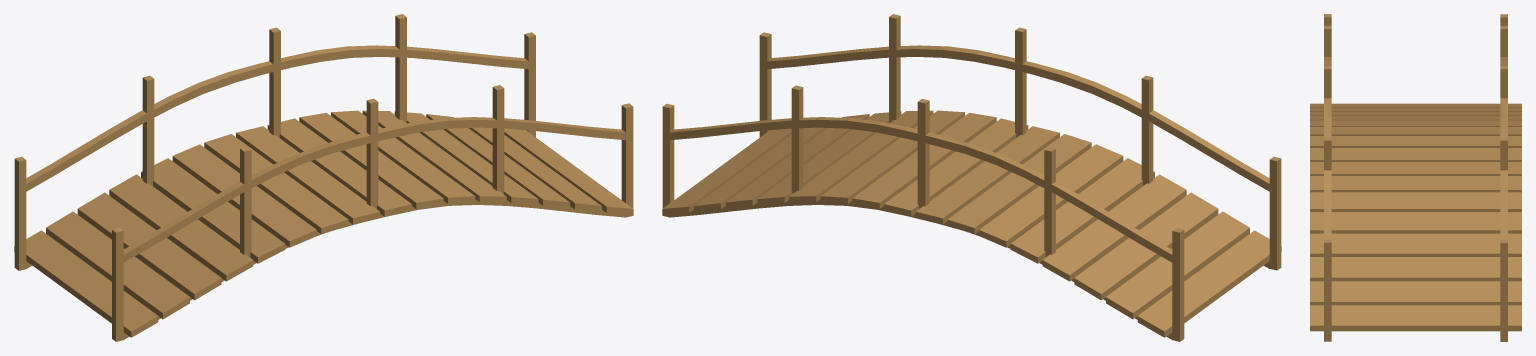
File: Hex-bridge.glb
The picture shows the model from 3 angles, left to right: view 1: azimuth 30°, elevation 25°; view 2: azimuth 150°, elevation 25°; view 3: azimuth 270°, elevation 25°; orthographic projection. The views are drawn at different scales.
Visible parts, largest first — view 1: Cube.080_Material.001_0; view 2: Cube.080_Material.001_0; view 3: Cube.080_Material.001_0.
Boxes of the visible parts, x1,y1,x2,y2 form: Cube.080_Material.001_0: (14, 14, 633, 341); Cube.080_Material.001_0: (662, 14, 1281, 341); Cube.080_Material.001_0: (1310, 14, 1521, 341).
Size of the model in its own units: 2.26 by 0.7378 by 0.8858.
Materials: 1 (1 with a texture image).
